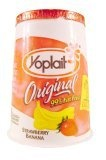grozi_120: (7, 8, 96, 148)
